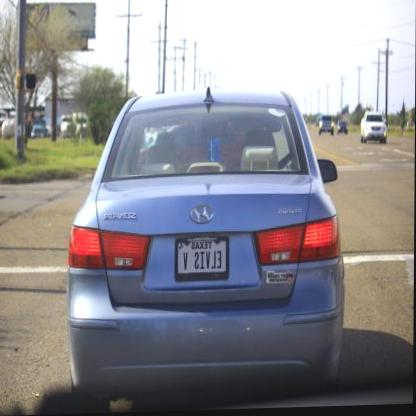License_Plate: (177, 240, 226, 274)
